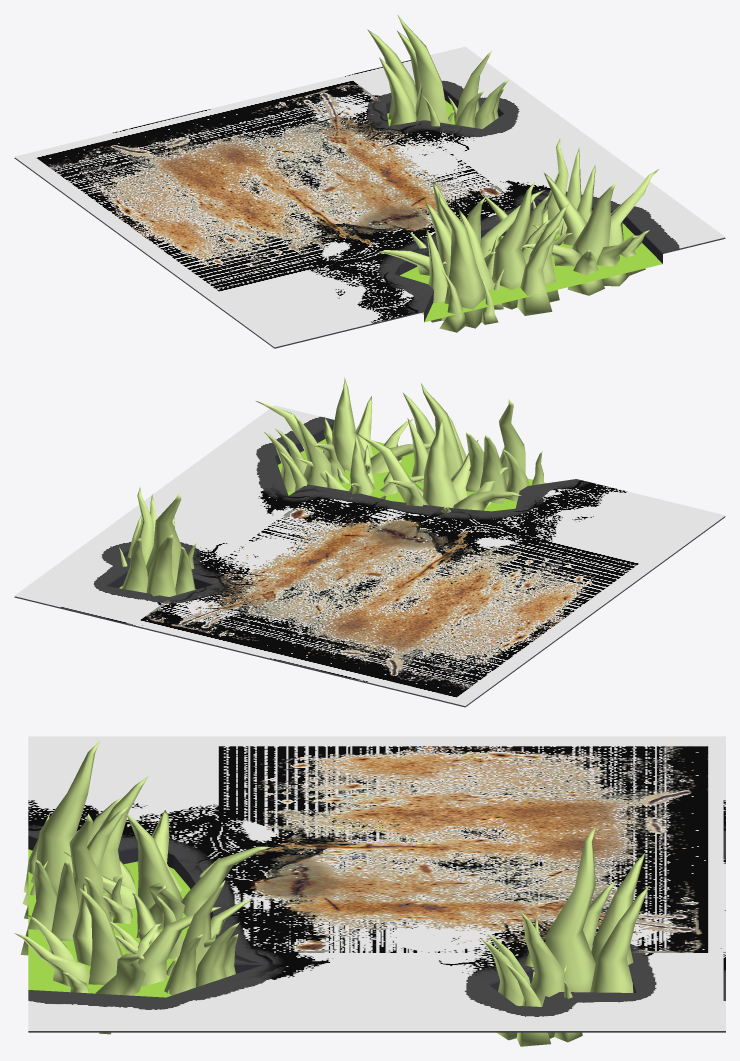
File: Paslı Plaka 1.fbx
The picture shows the model from 3 angles, top to bottom: view 1: azimuth 30°, elevation 25°; view 2: azimuth 150°, elevation 25°; view 3: azimuth 270°, elevation 25°; orthographic projection. The views are drawn at different scales.
Visible parts, largest first — view 1: crack1; view 2: crack1; view 3: crack1.
Part boxes in pixels (box(x1,y1,x2,y2)): crack1: box(14, 15, 725, 348); crack1: box(14, 377, 725, 707); crack1: box(14, 736, 725, 1046).
Bounding box in the file's own units: 200 × 53.25 × 204.
